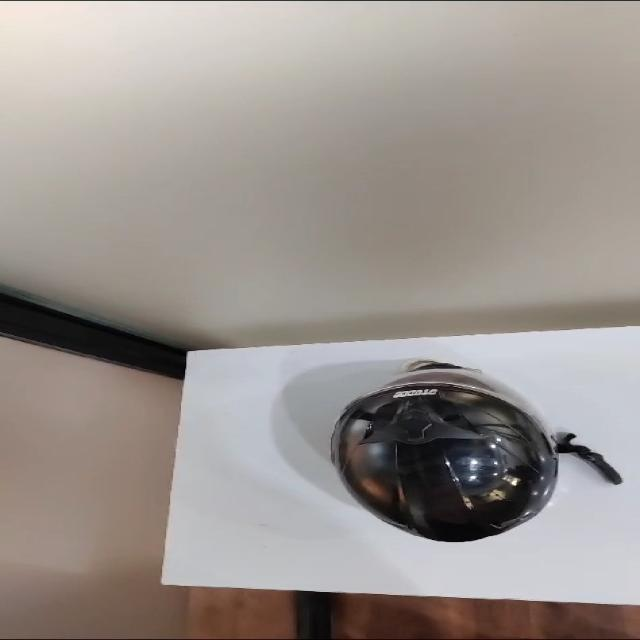helmet: (314, 368, 554, 551)
